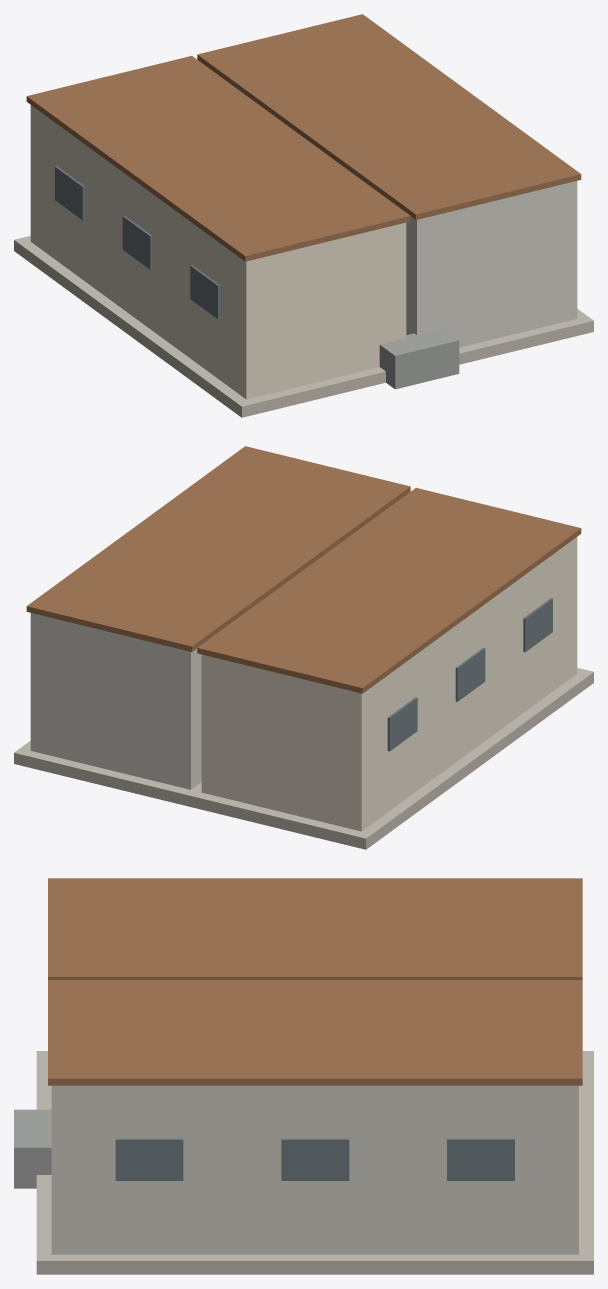
File: MineOffice.glb
The picture shows the model from 3 angles, top to bottom: view 1: azimuth 30°, elevation 25°; view 2: azimuth 150°, elevation 25°; view 3: azimuth 270°, elevation 25°; orthographic projection. The views are drawn at different scales.
Parts seen in each view (by area): view 1: Portable cabin, Cabin roof, Cabin roof.001, Portable cabin.001, Skid, Steps, Cabin window, Cabin window.001, Cabin window.002; view 2: Portable cabin, Cabin roof, Cabin roof.001, Portable cabin.001, Skid, Cabin window.002, Cabin window.001, Cabin window; view 3: Portable cabin.001, Cabin roof.001, Cabin roof, Skid, Cabin window.004, Cabin window.003, Cabin window.005, Steps.
Boxes of the visible parts, box(x1,y1,x2,y2) form: Portable cabin: box(30, 105, 406, 399); Cabin roof: box(26, 56, 410, 261); Cabin roof.001: box(197, 14, 581, 219); Portable cabin.001: box(406, 181, 577, 347); Skid: box(14, 236, 593, 417); Steps: box(379, 329, 459, 389); Cabin window: box(190, 265, 220, 319); Cabin window.001: box(122, 215, 152, 269); Cabin window.002: box(55, 166, 84, 220); Portable cabin: box(201, 537, 577, 831); Cabin roof: box(197, 488, 581, 693); Cabin roof.001: box(26, 446, 410, 651); Portable cabin.001: box(30, 613, 201, 789); Skid: box(14, 668, 593, 849); Cabin window.002: box(387, 697, 417, 751); Cabin window.001: box(455, 647, 485, 701); Cabin window: box(523, 598, 552, 652); Portable cabin.001: box(51, 1085, 578, 1254); Cabin roof.001: box(48, 980, 582, 1085); Cabin roof: box(48, 878, 582, 979); Skid: box(36, 1051, 593, 1274); Cabin window.004: box(281, 1138, 349, 1180); Cabin window.003: box(115, 1138, 183, 1180); Cabin window.005: box(447, 1138, 514, 1180); Steps: box(14, 1109, 51, 1188).
Bounding box in the file's own units: 6.6 × 2.8 × 7.7.
